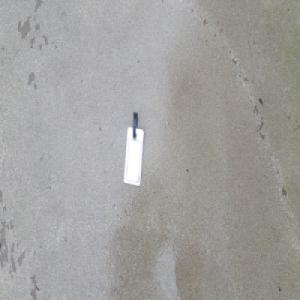LuggageTag: (123, 111, 145, 187)
